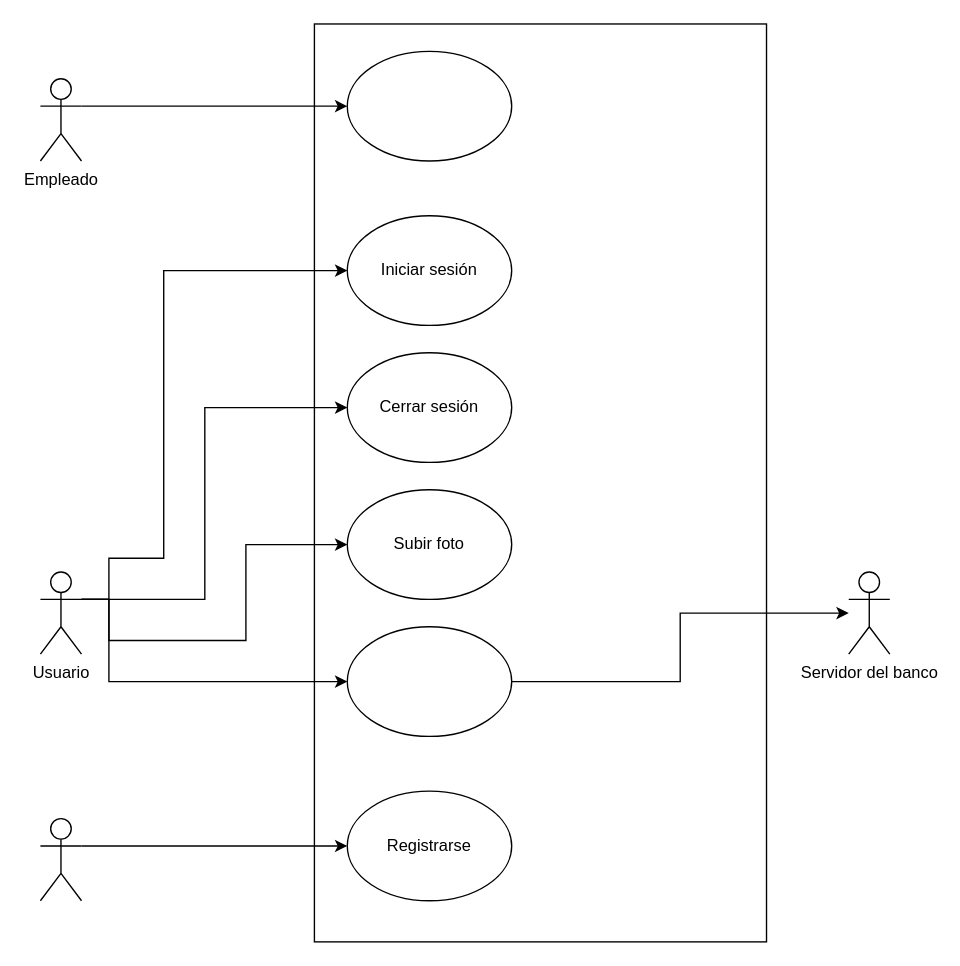
Some shapes in this 960 by 966 pixel diagram are drawn without their labels. Here are the shapes that lost their labels. From the top down, the centre of each, then its label:
At point 429,105: "Registrar retiro".
At point 429,680: "Abonar monto".
At point 60,859: "Persona".
